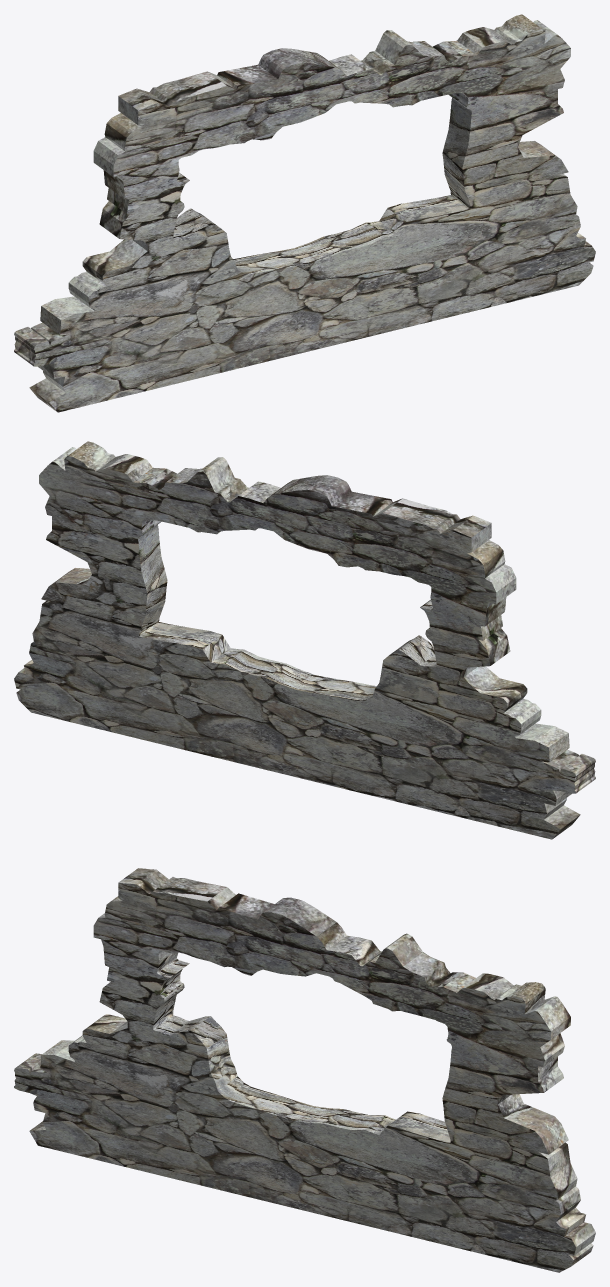
File: ruinwall7.FBX
The picture shows the model from 3 angles, top to bottom: view 1: azimuth 30°, elevation 25°; view 2: azimuth 150°, elevation 25°; view 3: azimuth 330°, elevation 25°; orthographic projection.
Parts seen in each view (by area): view 1: Mesh7; view 2: Mesh7; view 3: Mesh7.
Part boxes in pixels (left/top/right/bottom): Mesh7: left=14, top=14, right=595, bottom=412; Mesh7: left=14, top=441, right=595, bottom=839; Mesh7: left=14, top=868, right=595, bottom=1272.
Size of the model in its own units: 38.83 by 19.17 by 2.39.
